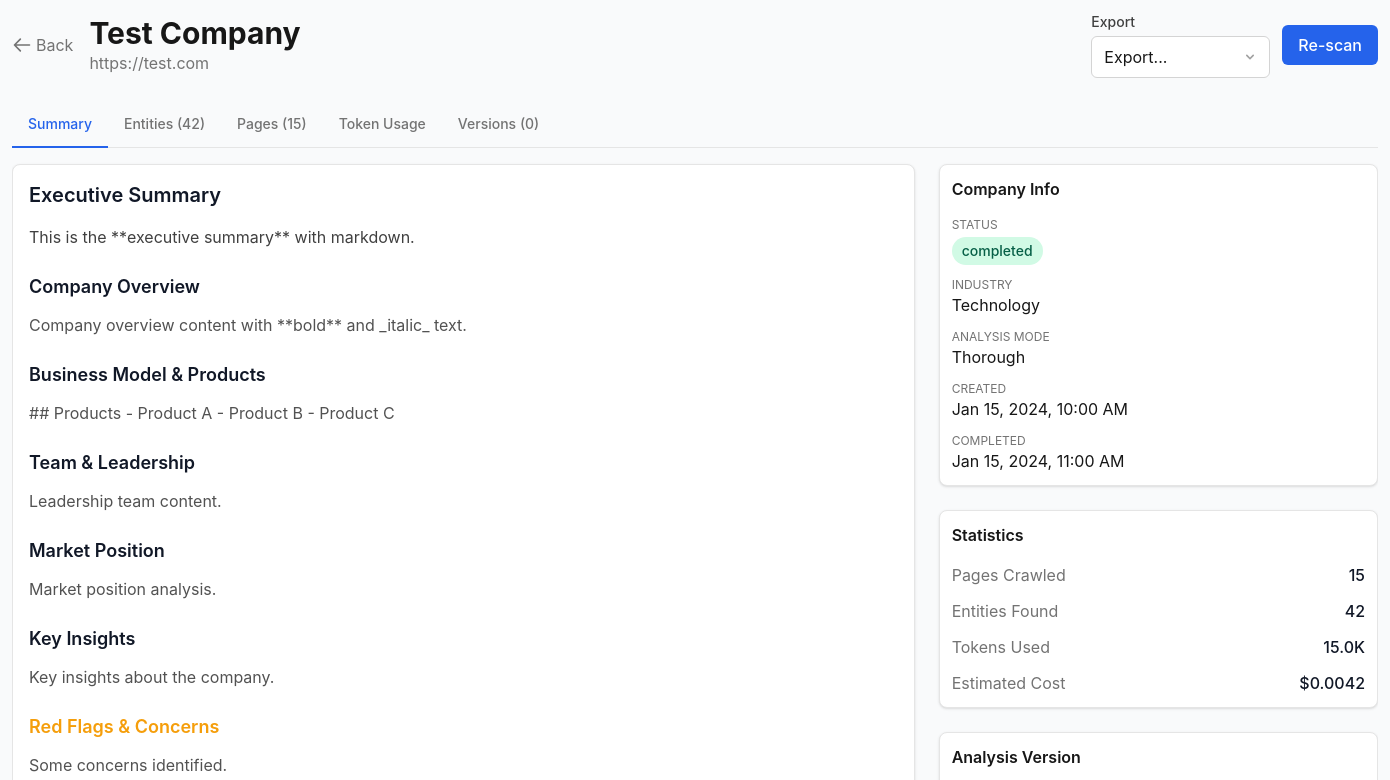
Test: Token Counter › shows no token data message when unavailable
The image size is (1390, 780).
Click the tab "Token Usage" at (382, 125), box [323,102,442,148]
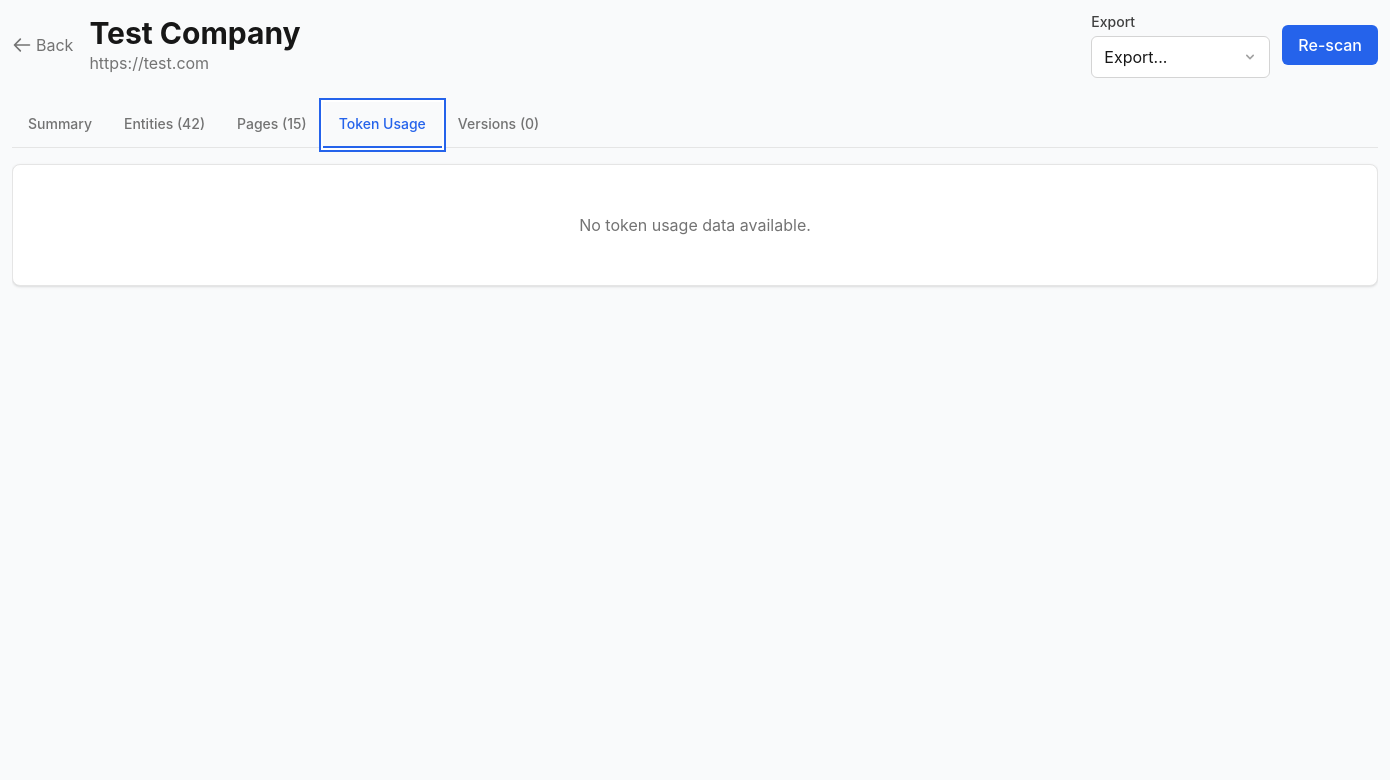
expect the text "No token usage data available." is shown: met, box [579,215,811,235]
